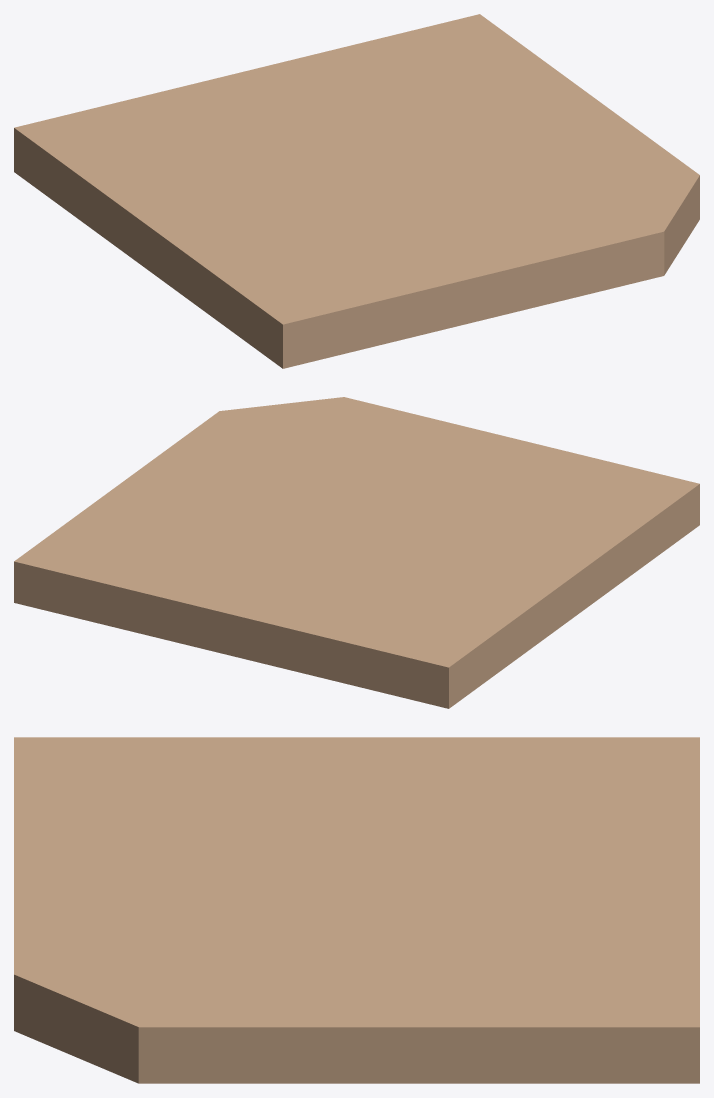
The model's file is floorCorner.glb.
3 renders of one model, top to bottom at view 1: azimuth 30°, elevation 25°; view 2: azimuth 150°, elevation 25°; view 3: azimuth 270°, elevation 25°, orthographic. The views are drawn at different scales.
Visible parts, largest first — view 1: floorCorner; view 2: floorCorner; view 3: floorCorner.
Boxes of the visible parts, left/top/right/bottom form: floorCorner: left=14, top=14, right=699, bottom=368; floorCorner: left=14, top=397, right=699, bottom=708; floorCorner: left=14, top=737, right=699, bottom=1083.
Size of the model in its own units: 0.55 by 0.05 by 0.55.
